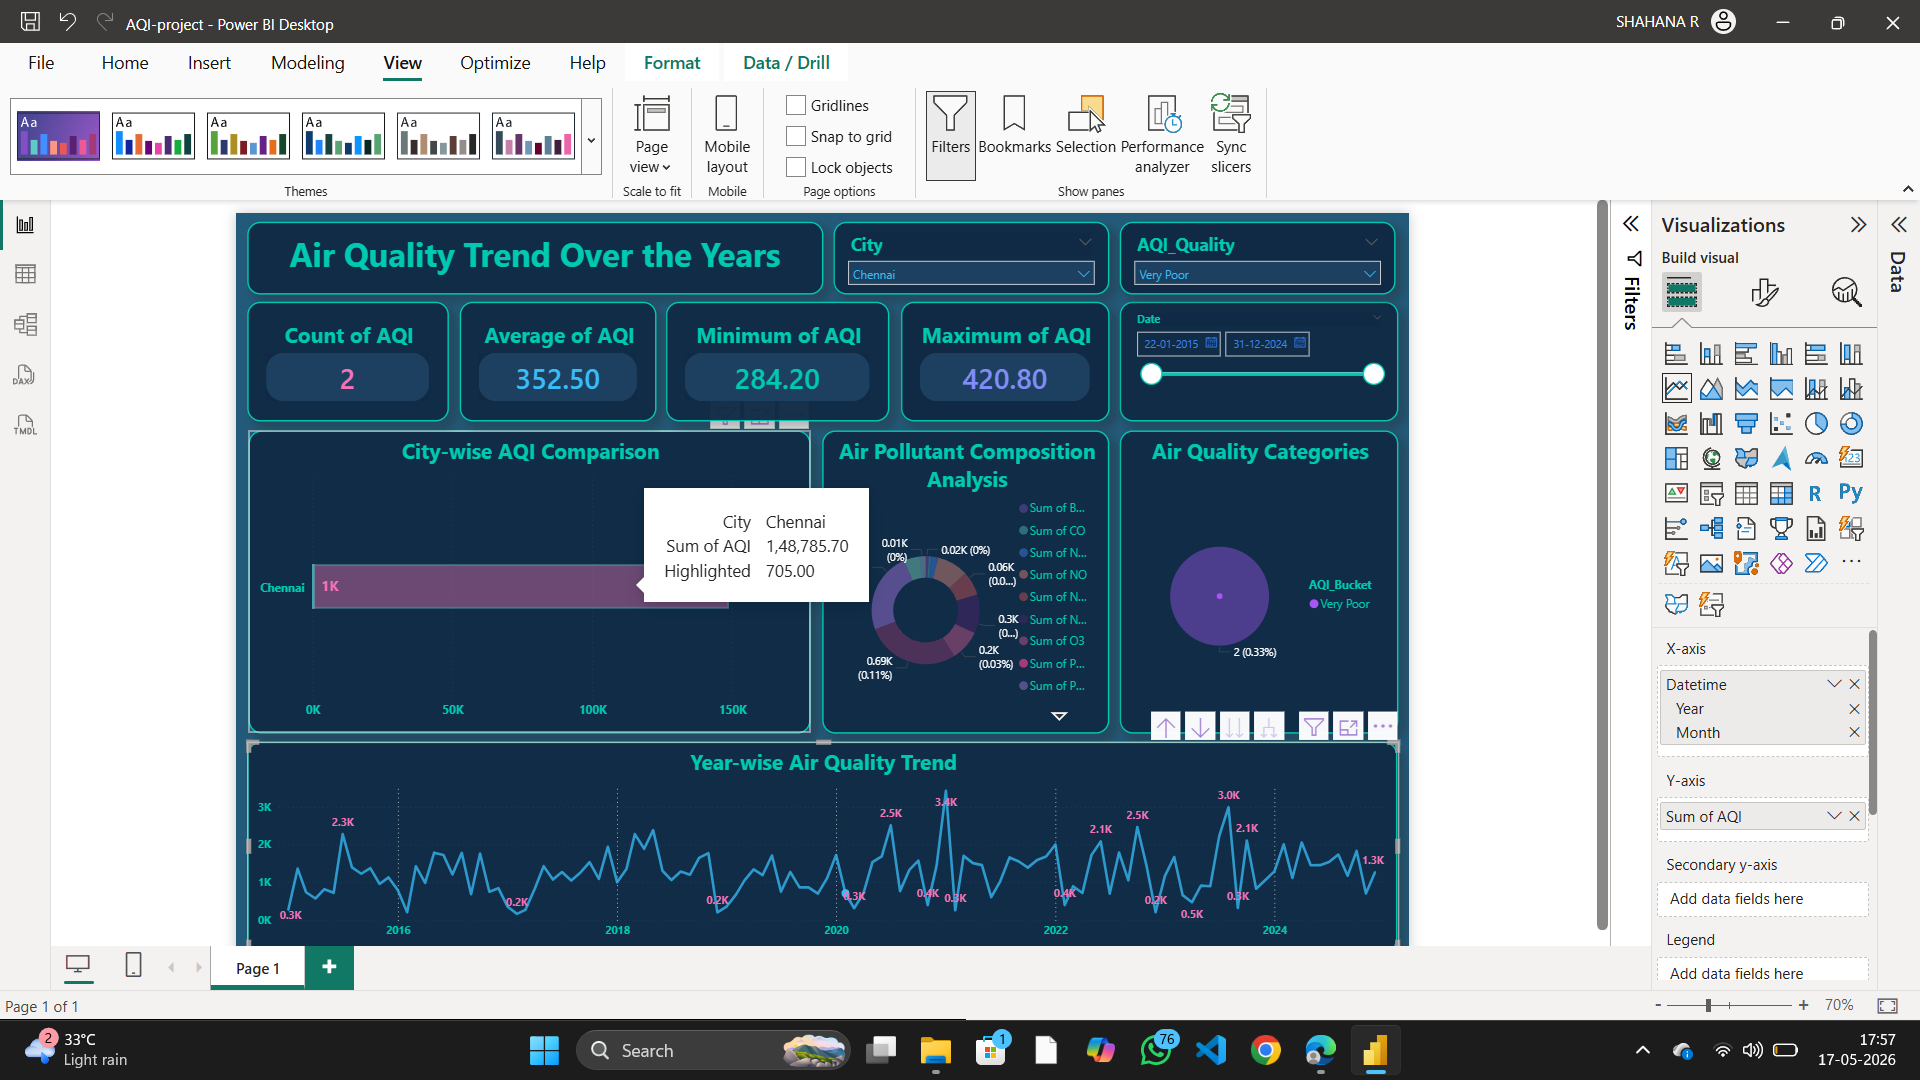

The dashboard page shown, as its layout file describes it:
{"tool":"powerbi","page":{"name":"Page 1","canvas":[1340,856],"ordinal":0},"visuals":[{"type":"clusteredBarChart","title":"City-wise AQI Comparison","fields":{"Category":["city_day.City"],"Y":["Sum(city_day.AQI)"]},"box":[14,248,642,346],"z":0},{"type":"slicer","fields":{"Values":["city_day.City"]},"box":[683.3,10,315,83.3],"z":2000},{"type":"slicer","fields":{"Values":["city_day.Datetime"]},"box":[1010,101.7,318.3,136.7],"z":3000},{"type":"slicer","fields":{"Values":["city_day.AQI_Bucket"]},"box":[1010,10,315,83.3],"z":4000},{"type":"lineChart","title":"Year-wise Air Quality Trend","fields":{"Y":["Sum(city_day.AQI)"],"Category":["city_day.Datetime.Variation.Date Hierarchy.Year","city_day.Datetime.Variation.Date Hierarchy.Month"]},"box":[13.5,604,1314.8,240.4],"z":6000},{"type":"textbox","box":[13.3,10,658.3,83.3],"z":7000},{"type":"cardVisual","title":"Count of AQI","fields":{"Data":["CountNonNull(city_day.AQI)"]},"box":[13.3,101.7,230,136.7],"z":8000},{"type":"cardVisual","title":"Maximum of AQI","fields":{"Data":["Max(city_day.AQI)"]},"box":[760,101.7,238.3,136.7],"z":9000},{"type":"cardVisual","title":"Minimum of AQI","fields":{"Data":["Min(city_day.AQI)"]},"box":[491.7,101.7,255,136.7],"z":10000},{"type":"cardVisual","title":"Average of AQI","fields":{"Data":["Avg(city_day.AQI)"]},"box":[255,101.7,225,136.7],"z":11000},{"type":"pieChart","title":"Air Quality Categories","fields":{"Category":["city_day.AQI_Bucket"],"Y":["CountNonNull(city_day.AQI_Bucket)"]},"box":[1010,248.3,318.3,346.7],"z":11001},{"type":"donutChart","title":"Air Pollutant Composition Analysis","fields":{"Y":["Sum(city_day.Benzene)","Sum(city_day.CO)","Sum(city_day.NH3)","Sum(city_day.NO)","Sum(city_day.NO2)","Sum(city_day.NOx)","Sum(city_day.O3)","Sum(city_day.PM10)","Sum(city_day.PM2.5)","Sum(city_day.SO2)","Sum(city_day.Toluene)","Sum(city_day.Xylene)"]},"box":[670,248.3,328.3,346.7],"z":11002}]}

Visuals, with their boxes on the page's 1340x856 design canvas (x1, y1, x2, y2). These are canvas units, not pixel positions in the 1920x1080 screenshot, which may show the page scaled, cropped or inside an application window:
"City-wise AQI Comparison" clusteredBarChart: 14, 248, 656, 594
slicer - city_day.City: 683, 10, 998, 93
slicer - city_day.Datetime: 1010, 102, 1328, 238
slicer - city_day.AQI_Bucket: 1010, 10, 1325, 93
"Year-wise Air Quality Trend" lineChart: 14, 604, 1328, 844
textbox: 13, 10, 672, 93
"Count of AQI" cardVisual: 13, 102, 243, 238
"Maximum of AQI" cardVisual: 760, 102, 998, 238
"Minimum of AQI" cardVisual: 492, 102, 747, 238
"Average of AQI" cardVisual: 255, 102, 480, 238
"Air Quality Categories" pieChart: 1010, 248, 1328, 595
"Air Pollutant Composition Analysis" donutChart: 670, 248, 998, 595
